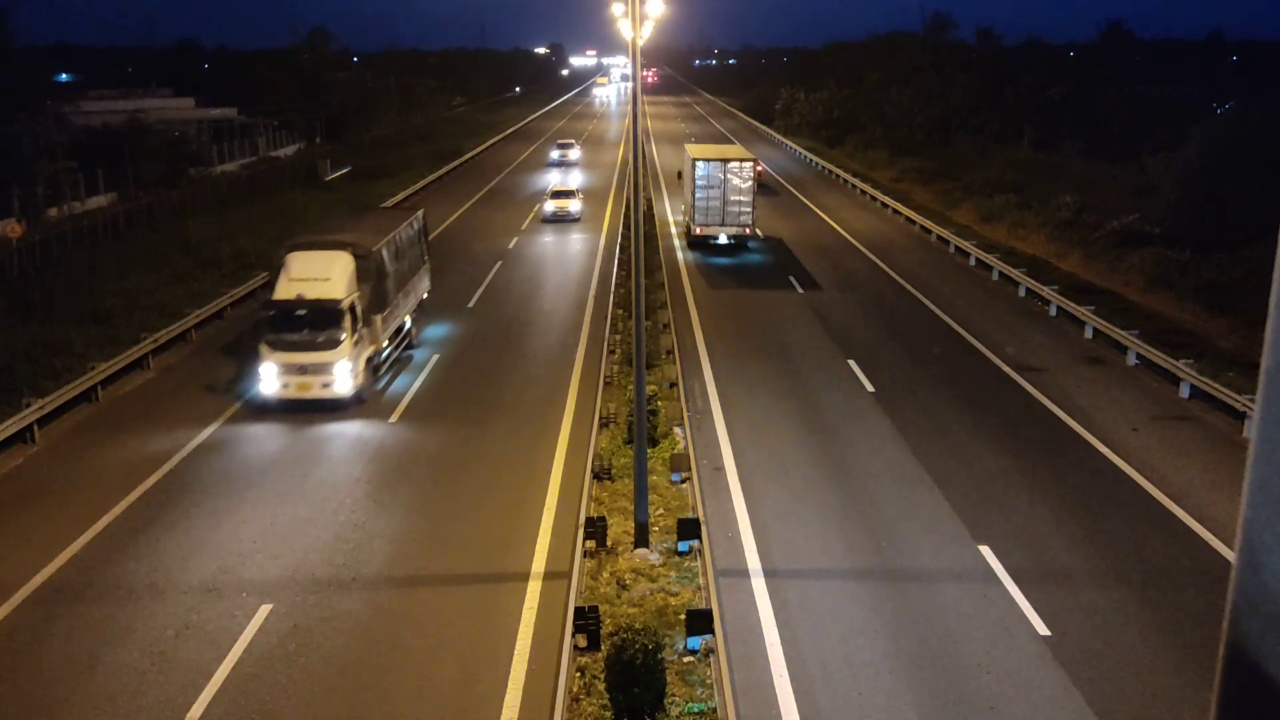car: (540, 185, 584, 223), (547, 139, 583, 167)
truck: (247, 204, 433, 410), (681, 143, 763, 250)
